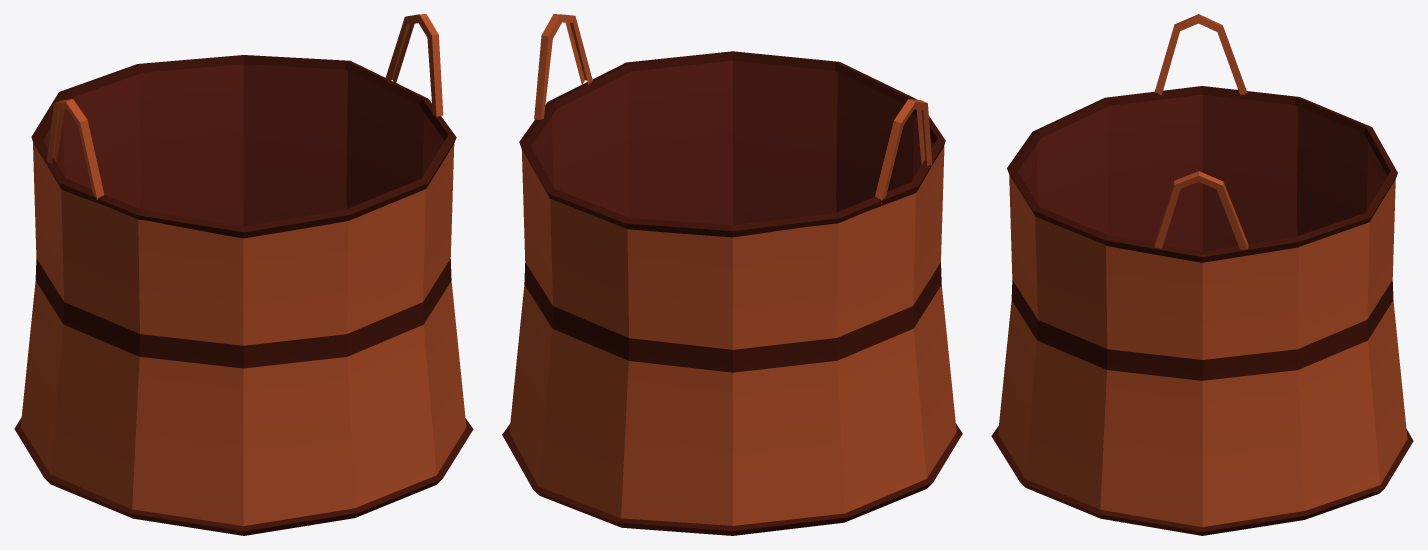
File: SM_basket.fbx
3 views of the same model, side by side, from view 1: azimuth 30°, elevation 25°; view 2: azimuth 150°, elevation 25°; view 3: azimuth 270°, elevation 25° (orthographic). The views are drawn at different scales.
Parts seen in each view (by area): view 1: low; view 2: low; view 3: low.
Boxes of the visible parts, <box> form: low: <box>14,14,473,535</box>; low: <box>502,14,962,535</box>; low: <box>991,14,1413,535</box>.
Bounding box in the file's own units: 49.53 × 53.06 × 53.14.
